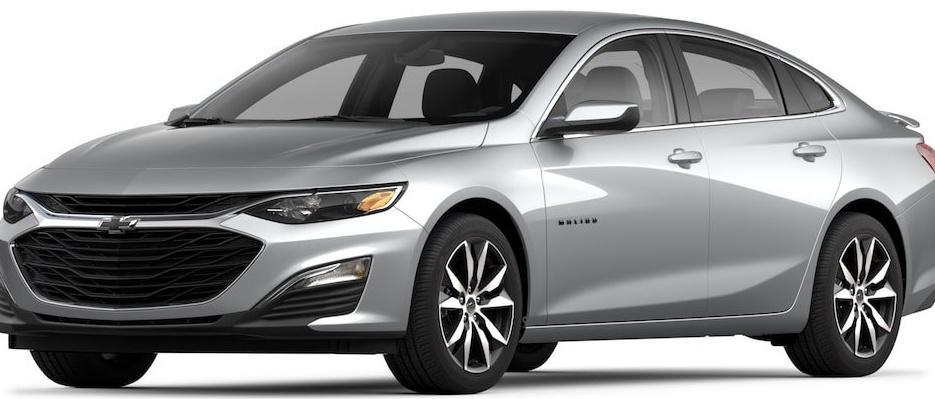Cars: (1, 16, 935, 394)
